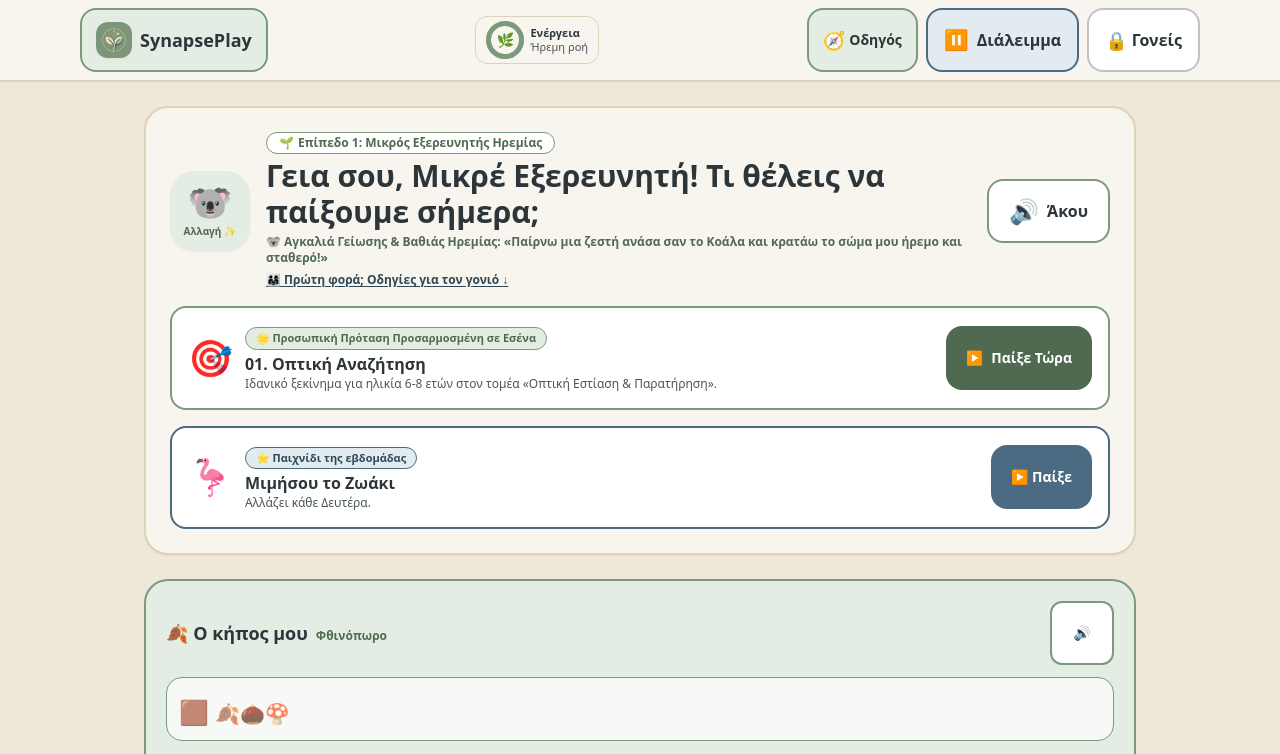
Test case: Comprehensive Enrichment Suite (A-ST): Dynamic Gate, Age Adaptation, 8 Disciplines, Invisible Scenarios, Speech & OT Games › Therapeutic Companion Avatars (Unicorns, Dragons, Animals) & Clinical Progress Evaluation: empowers child and evaluates ADHD domain growth
The image size is (1280, 754).
Click the button with test id "toggle-avatar-companion-picker-btn": (210, 211) [170,171,250,251]
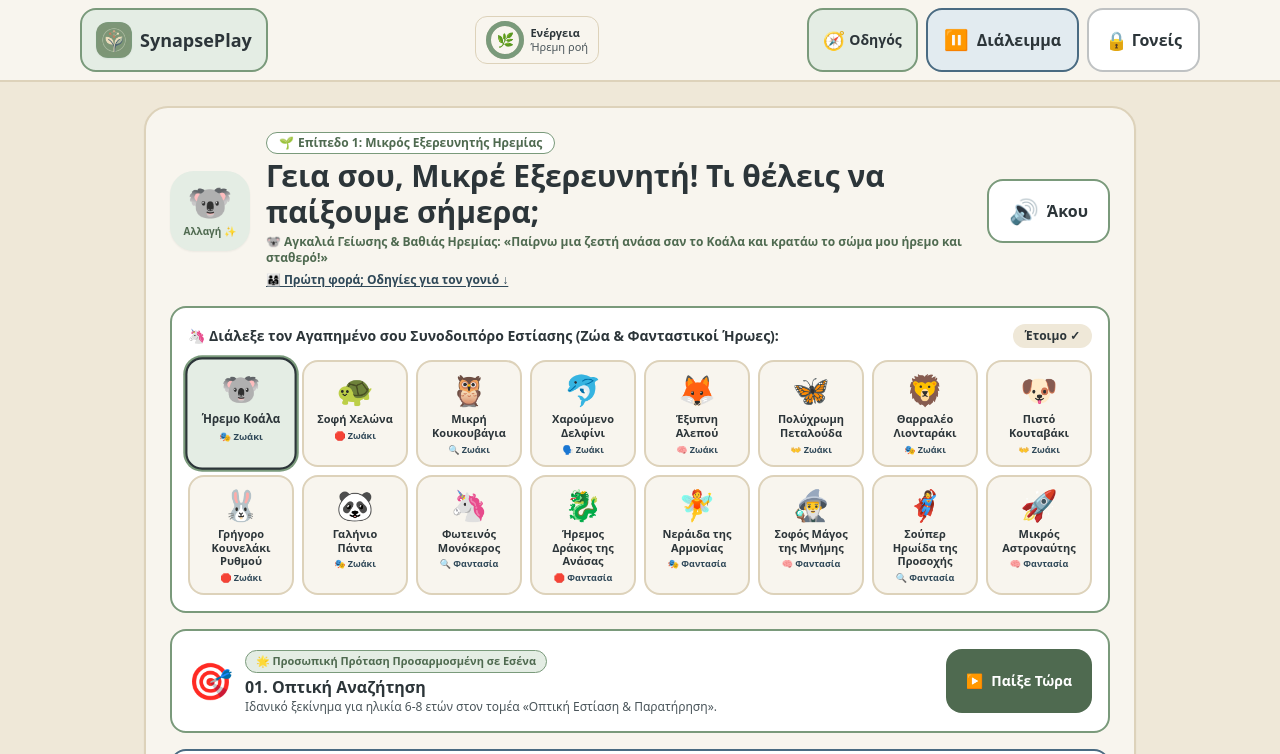
Expected: the element with test id "companion-avatar-picker-panel" is shown, [170,306,1110,613]
Click the button with test id "switch-avatar-btn-🦄": (469, 535) [416,475,522,595]
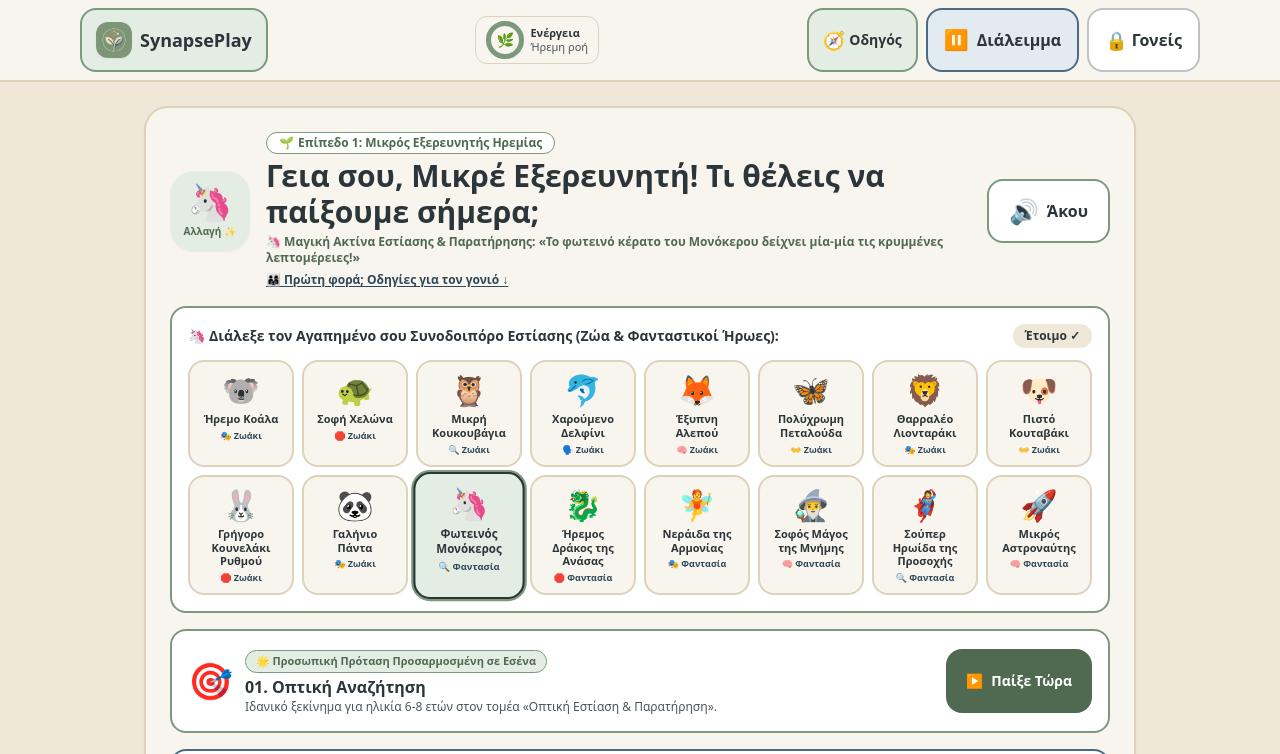
Expected: the text with test id "companion-superpower-banner" shows "Μαγική Ακτίνα Εστίασης", [266,233,943,266]
